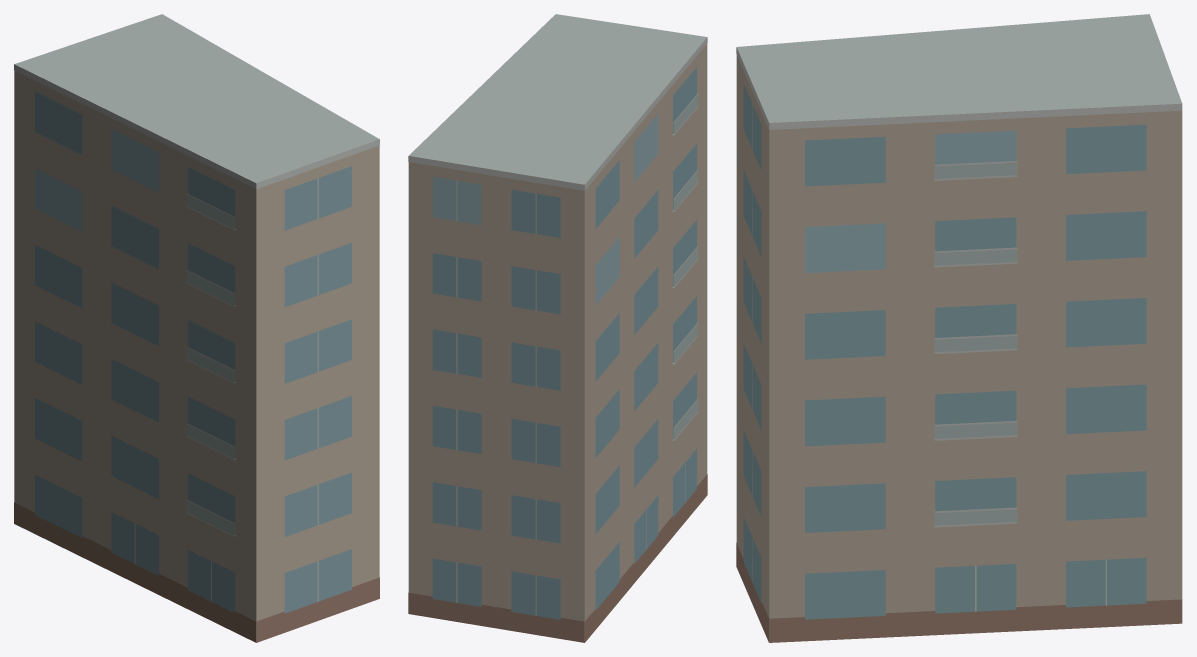
The model's file is survey-upis-32978733.glb.
3 views of the same model, side by side, from view 1: azimuth 30°, elevation 25°; view 2: azimuth 150°, elevation 25°; view 3: azimuth 270°, elevation 25° (orthographic). The views are drawn at different scales.
Visible parts, largest first — view 1: survey-upis-32978733.tmp; view 2: survey-upis-32978733.tmp; view 3: survey-upis-32978733.tmp.
Part boxes in pixels (x1,y1,x2,y2): survey-upis-32978733.tmp: (14,14,379,642); survey-upis-32978733.tmp: (408,14,707,642); survey-upis-32978733.tmp: (736,14,1182,642).
Size of the model in its own units: 8.24 by 18.3 by 14.23.
